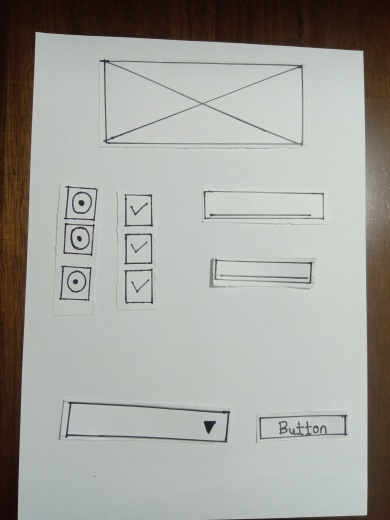button: (262, 412, 351, 439)
checkbox: (124, 193, 151, 224), (123, 270, 150, 301), (124, 233, 151, 264)
dropdown: (66, 399, 228, 445)
img: (103, 60, 303, 145)
radio: (63, 185, 95, 219), (58, 263, 90, 297), (64, 223, 96, 257)
text: (199, 190, 324, 220), (212, 261, 314, 285)
